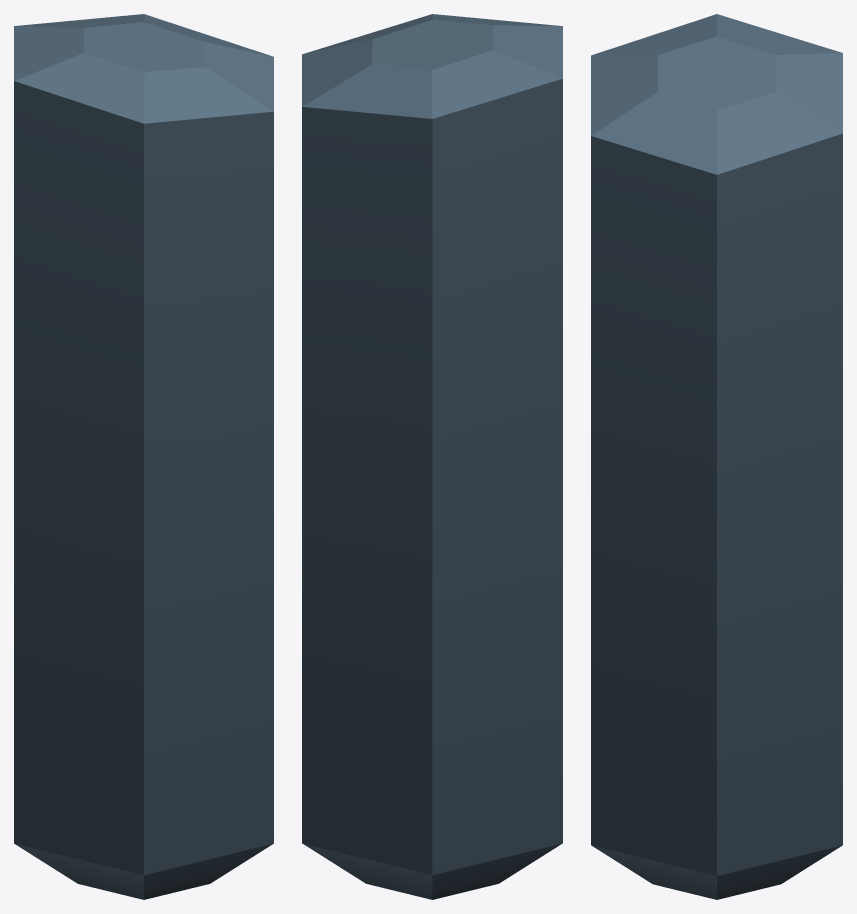
Rendered from geology-crystals-calcitecrystal_v13.glb.
3 views of the same model, side by side, from view 1: azimuth 30°, elevation 25°; view 2: azimuth 150°, elevation 25°; view 3: azimuth 270°, elevation 25° (orthographic). The views are drawn at different scales.
Parts seen in each view (by area): view 1: CalciteCrystal_v13; view 2: CalciteCrystal_v13; view 3: CalciteCrystal_v13.
Part boxes in pixels (x1=…): CalciteCrystal_v13: x1=14, y1=14, x2=273, y2=899; CalciteCrystal_v13: x1=302, y1=14, x2=562, y2=899; CalciteCrystal_v13: x1=591, y1=14, x2=842, y2=899.
Size of the model in its own units: 1.39 by 4.24 by 1.21.
